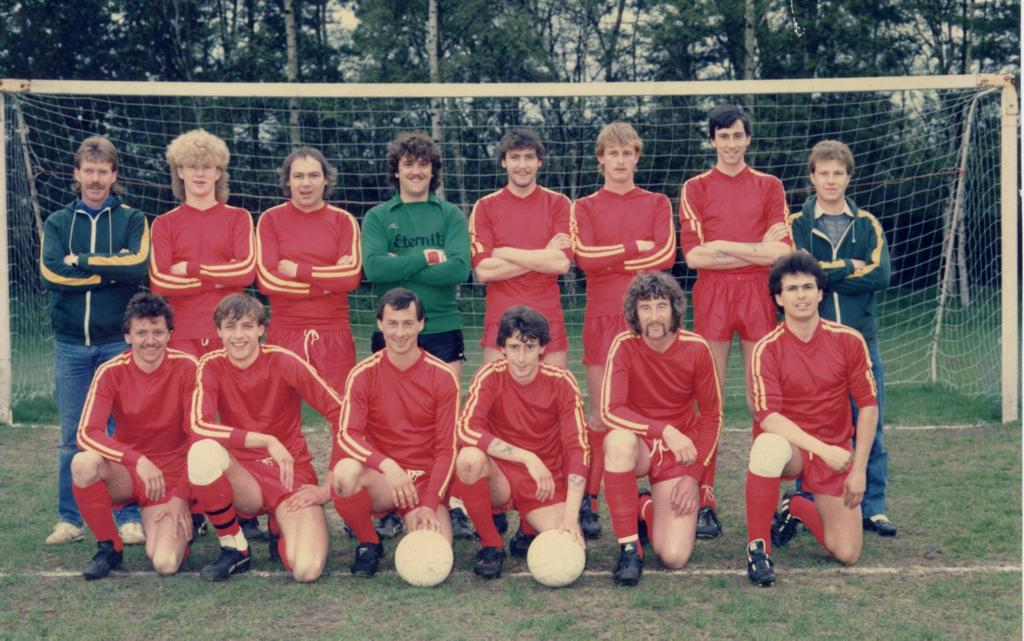face: (223, 310, 258, 361), (384, 304, 419, 354), (780, 274, 818, 319), (132, 315, 166, 364), (290, 159, 324, 208), (507, 331, 539, 378), (399, 152, 433, 196), (638, 298, 673, 340), (815, 160, 848, 204), (508, 145, 539, 188), (79, 160, 111, 200), (184, 157, 216, 197), (716, 124, 747, 165), (604, 145, 636, 183)
